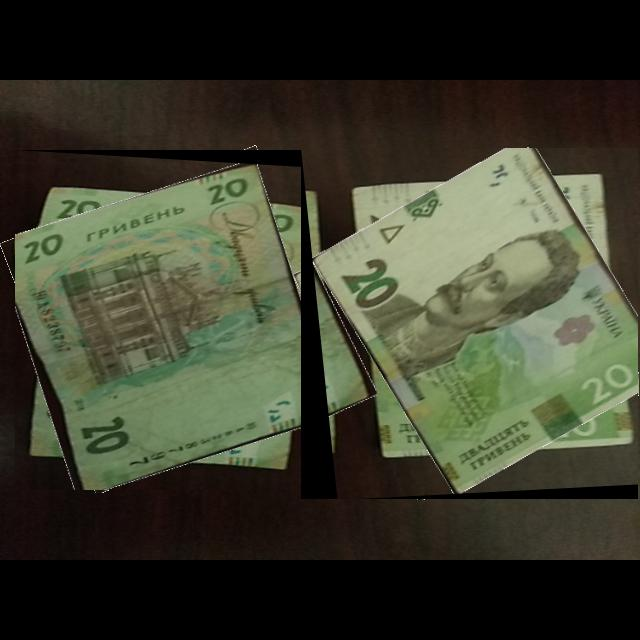20uah: (310, 148, 639, 495), (15, 162, 333, 491)
